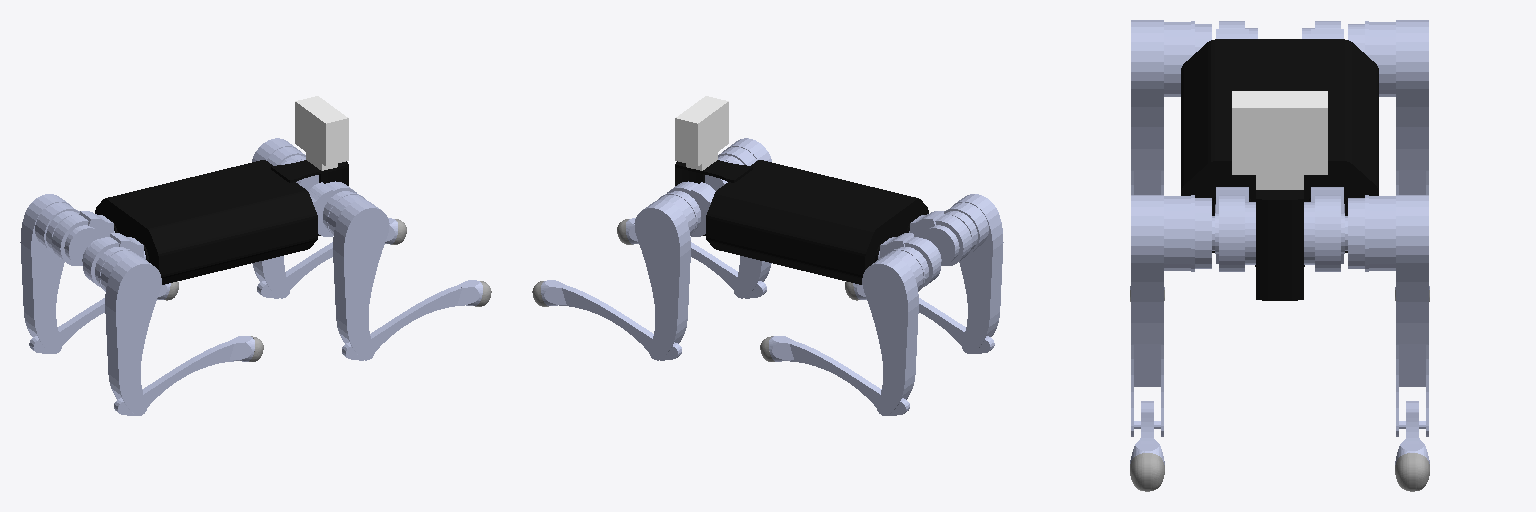
URDF robot description (dog):
<?xml version="1.0" encoding="utf-8"?>
<robot name="dog">
  <!-- ============ Materials ============ -->
  <material name="black"><color rgba="0.10196 0.10196 0.10196 1"/></material>
  <material name="silver"><color rgba="0.79216 0.81961 0.93333 1"/></material>
  <material name="gray"><color rgba="0.69804 0.69804 0.69804 1"/></material>
  <material name="white"><color rgba="1 1 1 1"/></material>

  <!-- ============ Base (主基座) ============ -->
  <link name="base">
    <inertial>
      <origin xyz="0.0063754 1.9125E-17 -5.2009E-18" rpy="0 0 0"/>
      <mass value="13.555"/>
      <inertia ixx="0.051785" ixy="-6.5573E-18" ixz="-6.0673E-18" 
               iyy="0.11159" iyz="2.7689E-18" izz="0.13989"/>
    </inertial>
    <visual>
      <origin xyz="0 0 0" rpy="0 0 0"/>
      <geometry>
        <mesh filename="../meshes/base.STL"/>
      </geometry>
      <material name="black"/>
    </visual>
    <collision>
      <origin xyz="0 0 0" rpy="0 0 0"/>
      <geometry>
        <box size="0.3062 0.0935 0.104"/>
      </geometry>
    </collision>
  </link>

  <!-- ============ ODIN1 (附加设备) ============ -->
  <link name="ODIN1">
    <inertial>
      <origin xyz="0 0 0" rpy="0 0 0"/>
      <mass value="0.5"/>
      <inertia ixx="0.001" ixy="0" ixz="0" iyy="0.001" iyz="0" izz="0.001"/>
    </inertial>
    <visual>
      <origin xyz="0 0 0" rpy="0 0 0"/>
      <geometry>
        <mesh filename="../meshes/ODIN1.STL"/>
      </geometry>
      <material name="white"/>
    </visual>
    <collision>
      <origin xyz="0 0 0" rpy="0 0 0"/>
      <geometry>
        <box size="0.04 0.08 0.04"/>
      </geometry>
    </collision>
  </link>
  
  <joint name="ODIN_joint" type="fixed">
    <origin xyz="0.21725 0 0.1165" rpy="0 0 0"/>
    <parent link="base"/>
    <child link="ODIN1"/>
    <axis xyz="0 0 0"/>
  </joint>

  <!-- ==================== FL Leg ==================== -->
  <link name="FL_hip">
    <inertial>
      <origin xyz="-0.010697 -0.0033174 3.5324E-18" rpy="0 0 0"/>
      <mass value="0.33292"/>
      <inertia ixx="0.0001789" ixy="-1.0761E-05" ixz="-1.0819E-20" 
               iyy="0.0003417" iyz="1.4246E-20" izz="0.00025417"/>
    </inertial>
    <visual>
      <origin xyz="0 0 0" rpy="0 0 0"/>
      <geometry>
        <mesh filename="../meshes/FL_hip.STL"/>
      </geometry>
      <material name="silver"/>
    </visual>
    <collision>
      <origin xyz="0 0.045 0" rpy="1.5708 0 0"/>
      <geometry>
        <cylinder length="0.04" radius="0.04"/>
      </geometry>
    </collision>
  </link>
  
  <joint name="FL_hip_joint" type="revolute">
    <origin xyz="0.2145 0.05 0" rpy="0 0 0"/>
    <parent link="base"/>
    <child link="FL_hip"/>
    <axis xyz="1 0 0"/>
    <limit lower="-1.05" upper="1.05" effort="23.7" velocity="30.1"/>
  </joint>

  <link name="FL_thigh">
    <inertial>
      <origin xyz="-0.0069171 -0.014196 -0.040905" rpy="0 0 0"/>
      <mass value="1.5467"/>
      <inertia ixx="0.0064369" ixy="-0.00015187" ixz="0.00066183" 
               iyy="0.0062486" iyz="-0.00089812" izz="0.0014778"/>
    </inertial>
    <visual>
      <origin xyz="0 0 0" rpy="0 0 0"/>
      <geometry>
        <mesh filename="../meshes/FL_thigh.STL"/>
      </geometry>
      <material name="silver"/>
    </visual>
    <collision>
      <origin xyz="0 0 -0.075" rpy="0 1.5708 0"/>
      <geometry>
        <box size="0.15 0.0245 0.034"/>
      </geometry>
    </collision>
  </link>
  
  <joint name="FL_thigh_joint" type="revolute">
    <origin xyz="0 0.088 0" rpy="0 0 0"/>
    <parent link="FL_hip"/>
    <child link="FL_thigh"/>
    <axis xyz="0 1 0"/>
    <limit lower="-1.57" upper="3.49" effort="23.7" velocity="30.1"/>
  </joint>

  <link name="FL_calf">
    <inertial>
      <origin xyz="0.012446 6.1697E-10 -0.11689" rpy="0 0 0"/>
      <mass value="0.1266"/>
      <inertia ixx="0.00089879" ixy="-1.6714E-11" ixz="-3.7677E-05" 
               iyy="0.0009089" iyz="4.713E-12" izz="1.8028E-05"/>
    </inertial>
    <visual>
      <origin xyz="0 0 0" rpy="0 0 0"/>
      <geometry>
        <mesh filename="../meshes/FL_calf.STL"/>
      </geometry>
      <material name="silver"/>
    </visual>
    <collision>
      <origin xyz="0 0 -0.07" rpy="0 1.5708 0"/>
      <geometry>
        <box size="0.14 0.016 0.016"/>
      </geometry>
    </collision>
  </link>
  
  <joint name="FL_calf_joint" type="revolute">
    <origin xyz="0 0 -0.22" rpy="0 0 0"/>
    <parent link="FL_thigh"/>
    <child link="FL_calf"/>
    <axis xyz="0 1 0"/>
    <limit lower="-2.72" upper="-0.84" effort="35.55" velocity="20.07"/>
  </joint>

  <link name="FL_foot">
    <inertial>
      <origin xyz="-1.5361E-11 9.9171E-11 9.5637E-11" rpy="0 0 0"/>
      <mass value="0.03385"/>
      <inertia ixx="4.3616E-06" ixy="1.5524E-12" ixz="-9.2947E-07" 
               iyy="4.8375E-06" iyz="-7.5217E-13" izz="5.3891E-06"/>
    </inertial>
    <visual>
      <origin xyz="0 0 0" rpy="0 0 0"/>
      <geometry>
        <mesh filename="../meshes/FL_foot.STL"/>
      </geometry>
      <material name="gray"/>
    </visual>
    <collision>
      <origin xyz="0 0 0" rpy="0 0 0"/>
      <geometry>
        <sphere radius="0.02"/>
      </geometry>
    </collision>
  </link>
  
  <joint name="FL_foot_joint" type="fixed">
    <origin xyz="0 0 -0.22849" rpy="0 0 0"/>
    <parent link="FL_calf"/>
    <child link="FL_foot"/>
    <axis xyz="0 0 0"/>
  </joint>

  <!-- ==================== FR Leg ==================== -->
  <link name="FR_hip">
    <inertial>
      <origin xyz="-0.010697 0.0033174 -5.3064E-18" rpy="0 0 0"/>
      <mass value="0.33292"/>
      <inertia ixx="0.0001789" ixy="1.0761E-05" ixz="2.9382E-20" 
               iyy="0.0003417" iyz="1.7422E-20" izz="0.00025417"/>
    </inertial>
    <visual>
      <origin xyz="0 0 0" rpy="0 0 0"/>
      <geometry>
        <mesh filename="../meshes/FR_hip.STL"/>
      </geometry>
      <material name="silver"/>
    </visual>
    <collision>
      <origin xyz="0 -0.045 0" rpy="1.5708 0 0"/>
      <geometry>
        <cylinder length="0.04" radius="0.04"/>
      </geometry>
    </collision>
  </link>
  
  <joint name="FR_hip_joint" type="revolute">
    <origin xyz="0.2145 -0.05 0" rpy="0 0 0"/>
    <parent link="base"/>
    <child link="FR_hip"/>
    <axis xyz="1 0 0"/>
    <limit lower="-1.05" upper="1.05" effort="23.7" velocity="30.1"/>
  </joint>

  <link name="FR_thigh">
    <inertial>
      <origin xyz="-0.0069171 0.014196 -0.040905" rpy="0 0 0"/>
      <mass value="1.5467"/>
      <inertia ixx="0.0064369" ixy="0.00015187" ixz="0.00066183" 
               iyy="0.0062486" iyz="0.00089812" izz="0.0014778"/>
    </inertial>
    <visual>
      <origin xyz="0 0 0" rpy="0 0 0"/>
      <geometry>
        <mesh filename="../meshes/FR_thigh.STL"/>
      </geometry>
      <material name="silver"/>
    </visual>
    <collision>
      <origin xyz="0 0 -0.075" rpy="0 1.5708 0"/>
      <geometry>
        <box size="0.15 0.0245 0.034"/>
      </geometry>
    </collision>
  </link>
  
  <joint name="FR_thigh_joint" type="revolute">
    <origin xyz="0 -0.088 0" rpy="0 0 0"/>
    <parent link="FR_hip"/>
    <child link="FR_thigh"/>
    <axis xyz="0 1 0"/>
    <limit lower="-1.57" upper="3.49" effort="23.7" velocity="30.1"/>
  </joint>

  <link name="FR_calf">
    <inertial>
      <origin xyz="0.012446 6.1697E-10 -0.11689" rpy="0 0 0"/>
      <mass value="0.1266"/>
      <inertia ixx="0.00089879" ixy="-1.6714E-11" ixz="-3.7677E-05" 
               iyy="0.0009089" iyz="4.713E-12" izz="1.8028E-05"/>
    </inertial>
    <visual>
      <origin xyz="0 0 0" rpy="0 0 0"/>
      <geometry>
        <mesh filename="../meshes/FR_calf.STL"/>
      </geometry>
      <material name="silver"/>
    </visual>
    <collision>
      <origin xyz="0 0 -0.07" rpy="0 1.5708 0"/>
      <geometry>
        <box size="0.14 0.016 0.016"/>
      </geometry>
    </collision>
  </link>
  
  <joint name="FR_calf_joint" type="revolute">
    <origin xyz="0 0 -0.22" rpy="0 0 0"/>
    <parent link="FR_thigh"/>
    <child link="FR_calf"/>
    <axis xyz="0 1 0"/>
    <limit lower="-2.72" upper="-0.84" effort="35.55" velocity="20.07"/>
  </joint>

  <link name="FR_foot">
    <inertial>
      <origin xyz="-6.8027E-11 1.2695E-10 2.7911E-11" rpy="0 0 0"/>
      <mass value="0.03385"/>
      <inertia ixx="4.3616E-06" ixy="1.5049E-12" ixz="-9.2947E-07" 
               iyy="4.8375E-06" iyz="-7.2331E-13" izz="5.3891E-06"/>
    </inertial>
    <visual>
      <origin xyz="0 0 0" rpy="0 0 0"/>
      <geometry>
        <mesh filename="../meshes/FR_foot.STL"/>
      </geometry>
      <material name="gray"/>
    </visual>
    <collision>
      <origin xyz="0 0 0" rpy="0 0 0"/>
      <geometry>
        <sphere radius="0.02"/>
      </geometry>
    </collision>
  </link>
  
  <joint name="FR_foot_joint" type="fixed">
    <origin xyz="0 0 -0.22849" rpy="0 0 0"/>
    <parent link="FR_calf"/>
    <child link="FR_foot"/>
    <axis xyz="0 0 0"/>
  </joint>

  <!-- ==================== RR Leg ==================== -->
  <link name="RR_hip">
    <inertial>
      <origin xyz="0.010697 0.0033174 6.5589E-19" rpy="0 0 0"/>
      <mass value="0.33292"/>
      <inertia ixx="0.0001789" ixy="-1.0761E-05" ixz="3.9204E-21" 
               iyy="0.0003417" iyz="-7.4276E-21" izz="0.00025417"/>
    </inertial>
    <visual>
      <origin xyz="0 0 0" rpy="0 0 0"/>
      <geometry>
        <mesh filename="../meshes/RR_hip.STL"/>
      </geometry>
      <material name="silver"/>
    </visual>
    <collision>
      <origin xyz="0 -0.045 0" rpy="1.5708 0 0"/>
      <geometry>
        <cylinder length="0.04" radius="0.04"/>
      </geometry>
    </collision>
  </link>
  
  <joint name="RR_hip_joint" type="revolute">
    <origin xyz="-0.2145 -0.05 0" rpy="0 0 0"/>
    <parent link="base"/>
    <child link="RR_hip"/>
    <axis xyz="1 0 0"/>
    <limit lower="-1.05" upper="1.05" effort="23.7" velocity="30.1"/>
  </joint>

  <link name="RR_thigh">
    <inertial>
      <origin xyz="-0.0069171 0.014196 -0.040905" rpy="0 0 0"/>
      <mass value="1.5467"/>
      <inertia ixx="0.0064369" ixy="0.00015187" ixz="0.00066183" 
               iyy="0.0062486" iyz="0.00089812" izz="0.0014778"/>
    </inertial>
    <visual>
      <origin xyz="0 0 0" rpy="0 0 0"/>
      <geometry>
        <mesh filename="../meshes/RR_thigh.STL"/>
      </geometry>
      <material name="silver"/>
    </visual>
    <collision>
      <origin xyz="0 0 -0.075" rpy="0 1.5708 0"/>
      <geometry>
        <box size="0.15 0.0245 0.034"/>
      </geometry>
    </collision>
  </link>
  
  <joint name="RR_thigh_joint" type="revolute">
    <origin xyz="0 -0.088 0" rpy="0 0 0"/>
    <parent link="RR_hip"/>
    <child link="RR_thigh"/>
    <axis xyz="0 1 0"/>
    <limit lower="-1.57" upper="3.49" effort="23.7" velocity="30.1"/>
  </joint>

  <link name="RR_calf">
    <inertial>
      <origin xyz="0.012446 6.1697E-10 -0.11689" rpy="0 0 0"/>
      <mass value="0.1266"/>
      <inertia ixx="0.00089879" ixy="-1.6714E-11" ixz="-3.7677E-05" 
               iyy="0.0009089" iyz="4.713E-12" izz="1.8028E-05"/>
    </inertial>
    <visual>
      <origin xyz="0 0 0" rpy="0 0 0"/>
      <geometry>
        <mesh filename="../meshes/RR_calf.STL"/>
      </geometry>
      <material name="silver"/>
    </visual>
    <collision>
      <origin xyz="0 0 -0.07" rpy="0 1.5708 0"/>
      <geometry>
        <box size="0.14 0.016 0.016"/>
      </geometry>
    </collision>
  </link>
  
  <joint name="RR_calf_joint" type="revolute">
    <origin xyz="0 0 -0.22" rpy="0 0 0"/>
    <parent link="RR_thigh"/>
    <child link="RR_calf"/>
    <axis xyz="0 1 0"/>
    <limit lower="-2.72" upper="-0.84" effort="35.55" velocity="20.07"/>
  </joint>

  <link name="RR_foot">
    <inertial>
      <origin xyz="-6.8027E-11 1.2695E-10 2.7911E-11" rpy="0 0 0"/>
      <mass value="0.03385"/>
      <inertia ixx="4.3616E-06" ixy="1.5049E-12" ixz="-9.2947E-07" 
               iyy="4.8375E-06" iyz="-7.2331E-13" izz="5.3891E-06"/>
    </inertial>
    <visual>
      <origin xyz="0 0 0" rpy="0 0 0"/>
      <geometry>
        <mesh filename="../meshes/RR_foot.STL"/>
      </geometry>
      <material name="gray"/>
    </visual>
    <collision>
      <origin xyz="0 0 0" rpy="0 0 0"/>
      <geometry>
        <sphere radius="0.02"/>
      </geometry>
    </collision>
  </link>
  
  <joint name="RR_foot_joint" type="fixed">
    <origin xyz="0 0 -0.228485817833339" rpy="0 0 0"/>
    <parent link="RR_calf"/>
    <child link="RR_foot"/>
    <axis xyz="0 0 0"/>
  </joint>

  <!-- ==================== RL Leg ==================== -->
  <link name="RL_hip">
    <inertial>
      <origin xyz="0.010697 -0.0033174 3.7675E-19" rpy="0 0 0"/>
      <mass value="0.33292"/>
      <inertia ixx="0.0001789" ixy="1.0761E-05" ixz="-6.6841E-21" 
               iyy="0.0003417" iyz="-2.6358E-21" izz="0.00025417"/>
    </inertial>
    <visual>
      <origin xyz="0 0 0" rpy="0 0 0"/>
      <geometry>
        <mesh filename="../meshes/RL_hip.STL"/>
      </geometry>
      <material name="silver"/>
    </visual>
    <collision>
      <origin xyz="0 0.045 0" rpy="1.5708 0 0"/>
      <geometry>
        <cylinder length="0.04" radius="0.04"/>
      </geometry>
    </collision>
  </link>
  
  <joint name="RL_hip_joint" type="revolute">
    <origin xyz="-0.2145 0.05 0" rpy="0 0 0"/>
    <parent link="base"/>
    <child link="RL_hip"/>
    <axis xyz="1 0 0"/>
    <limit lower="-1.05" upper="1.05" effort="23.7" velocity="30.1"/>
  </joint>

  <link name="RL_thigh">
    <inertial>
      <origin xyz="-0.0069171 -0.014196 -0.040905" rpy="0 0 0"/>
      <mass value="1.5467"/>
      <inertia ixx="0.0064369" ixy="-0.00015187" ixz="0.00066183" 
               iyy="0.0062486" iyz="-0.00089812" izz="0.0014778"/>
    </inertial>
    <visual>
      <origin xyz="0 0 0" rpy="0 0 0"/>
      <geometry>
        <mesh filename="../meshes/RL_thigh.STL"/>
      </geometry>
      <material name="silver"/>
    </visual>
    <collision>
      <origin xyz="0 0 -0.075" rpy="0 1.5708 0"/>
      <geometry>
        <box size="0.15 0.0245 0.034"/>
      </geometry>
    </collision>
  </link>
  
  <joint name="RL_thigh_joint" type="revolute">
    <origin xyz="0 0.088 0" rpy="0 0 0"/>
    <parent link="RL_hip"/>
    <child link="RL_thigh"/>
    <axis xyz="0 1 0"/>
    <limit lower="-1.57" upper="3.49" effort="23.7" velocity="30.1"/>
  </joint>

  <link name="RL_calf">
    <inertial>
      <origin xyz="0.012446 6.1697E-10 -0.11689" rpy="0 0 0"/>
      <mass value="0.1266"/>
      <inertia ixx="0.00089879" ixy="-1.6714E-11" ixz="-3.7677E-05" 
               iyy="0.0009089" iyz="4.713E-12" izz="1.8028E-05"/>
    </inertial>
    <visual>
      <origin xyz="0 0 0" rpy="0 0 0"/>
      <geometry>
        <mesh filename="../meshes/RL_calf.STL"/>
      </geometry>
      <material name="silver"/>
    </visual>
    <collision>
      <origin xyz="0 0 -0.07" rpy="0 1.5708 0"/>
      <geometry>
        <box size="0.14 0.016 0.016"/>
      </geometry>
    </collision>
  </link>
  
  <joint name="RL_calf_joint" type="revolute">
    <origin xyz="0 0 -0.22" rpy="0 0 0"/>
    <parent link="RL_thigh"/>
    <child link="RL_calf"/>
    <axis xyz="0 1 0"/>
    <limit lower="-2.72" upper="-0.84" effort="35.55" velocity="20.07"/>
  </joint>

  <link name="RL_foot">
    <inertial>
      <origin xyz="-5.3573E-06 8.9644E-11 0" rpy="0 0 0"/>
      <mass value="0.03385"/>
      <inertia ixx="4.3616E-06" ixy="1.5512E-12" ixz="-9.2947E-07" 
               iyy="4.8375E-06" iyz="-7.5287E-13" izz="5.3891E-06"/>
    </inertial>
    <visual>
      <origin xyz="0 0 0" rpy="0 0 0"/>
      <geometry>
        <mesh filename="../meshes/RR_foot.STL"/>
      </geometry>
      <material name="gray"/>
    </visual>
    <collision>
      <origin xyz="0 0 0" rpy="0 0 0"/>
      <geometry>
        <sphere radius="0.02"/>
      </geometry>
    </collision>
  </link>
  
  <joint name="RL_foot_joint" type="fixed">
    <origin xyz="0 0 -0.22849" rpy="0 0 0"/>
    <parent link="RL_calf"/>
    <child link="RL_foot"/>
    <axis xyz="0 0 0"/>
  </joint>

</robot>

--- Render facts (derived) ---
Views: 3 orthographic renders of the robot side by side, from view 1: azimuth 30°, elevation 25°; view 2: azimuth 150°, elevation 25°; view 3: azimuth 270°, elevation 25°.
Robot: dog — 18 links, 17 joints (12 revolute, 5 fixed); root link base; default pose: joints at zero except 4 at the middle of their limits (FL_calf_joint = -1.78, FR_calf_joint = -1.78, RR_calf_joint = -1.78, RL_calf_joint = -1.78).
Visible links, largest first — view 1: base, RR_thigh, FR_thigh, RL_thigh, ODIN1, FR_calf, RR_calf, RL_hip, FL_thigh, FL_calf, RR_hip, RL_calf (+1 smaller); view 2: base, RL_thigh, FL_thigh, RR_thigh, ODIN1, FL_calf, RL_calf, RR_hip, FR_thigh, FR_calf, RL_hip, RR_calf (+1 smaller); view 3: base, FL_thigh, FR_thigh, ODIN1, RR_thigh, RL_thigh, FL_hip, FR_hip, FL_foot, FR_foot, FL_calf, FR_calf (+2 smaller).
Boxes of the visible links, x1,y1,x2,y2 form: base: [95, 160, 348, 284]; RR_thigh: [95, 247, 161, 415]; FR_thigh: [323, 191, 389, 360]; RL_thigh: [20, 194, 79, 353]; ODIN1: [295, 96, 348, 170]; FR_calf: [342, 280, 482, 360]; RR_calf: [114, 336, 254, 415]; RL_hip: [52, 211, 114, 265]; FL_thigh: [252, 138, 305, 298]; FL_calf: [257, 218, 397, 298]; RR_hip: [82, 233, 145, 286]; RL_calf: [29, 283, 170, 353]; base: [675, 160, 928, 284]; RL_thigh: [862, 247, 928, 415]; FL_thigh: [634, 191, 700, 360]; RR_thigh: [944, 194, 1003, 353]; ODIN1: [675, 96, 728, 170]; FL_calf: [541, 280, 681, 360]; RL_calf: [769, 336, 909, 415]; RR_hip: [909, 211, 971, 265]; FR_thigh: [718, 138, 771, 298]; FR_calf: [626, 218, 766, 298]; RL_hip: [878, 233, 941, 286]; RR_calf: [853, 283, 994, 353]; base: [1181, 39, 1378, 300]; FL_thigh: [1345, 195, 1428, 436]; FR_thigh: [1131, 195, 1214, 436]; ODIN1: [1232, 91, 1327, 189]; RR_thigh: [1131, 20, 1211, 194]; RL_thigh: [1348, 20, 1428, 194]; FL_hip: [1304, 187, 1344, 271]; FR_hip: [1215, 187, 1255, 271]; FL_foot: [1395, 453, 1429, 491]; FR_foot: [1130, 453, 1164, 491]; FL_calf: [1395, 401, 1429, 464]; FR_calf: [1130, 401, 1164, 464].
Size in the robot's own frame: 0.7145 by 0.312 by 0.3916 metres.
Meshes: 17 distinct files referenced, 18 mesh visuals loaded (17 binary STL).
